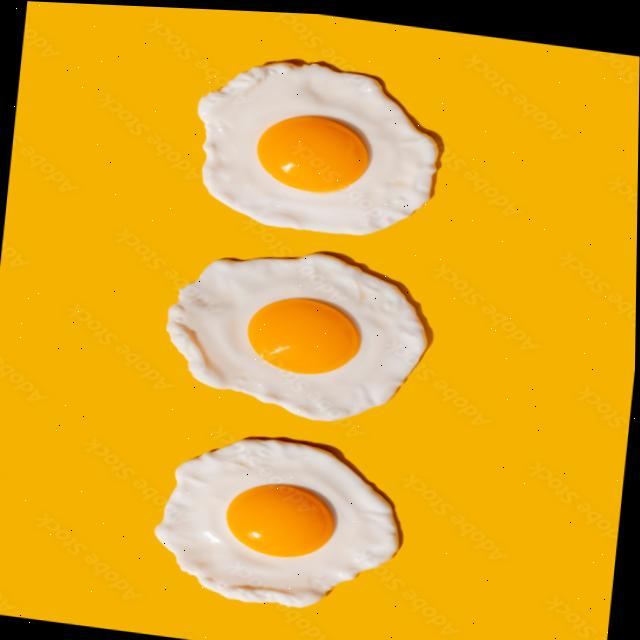Egg: (168, 249, 427, 416), (157, 435, 400, 603), (199, 59, 437, 229)
